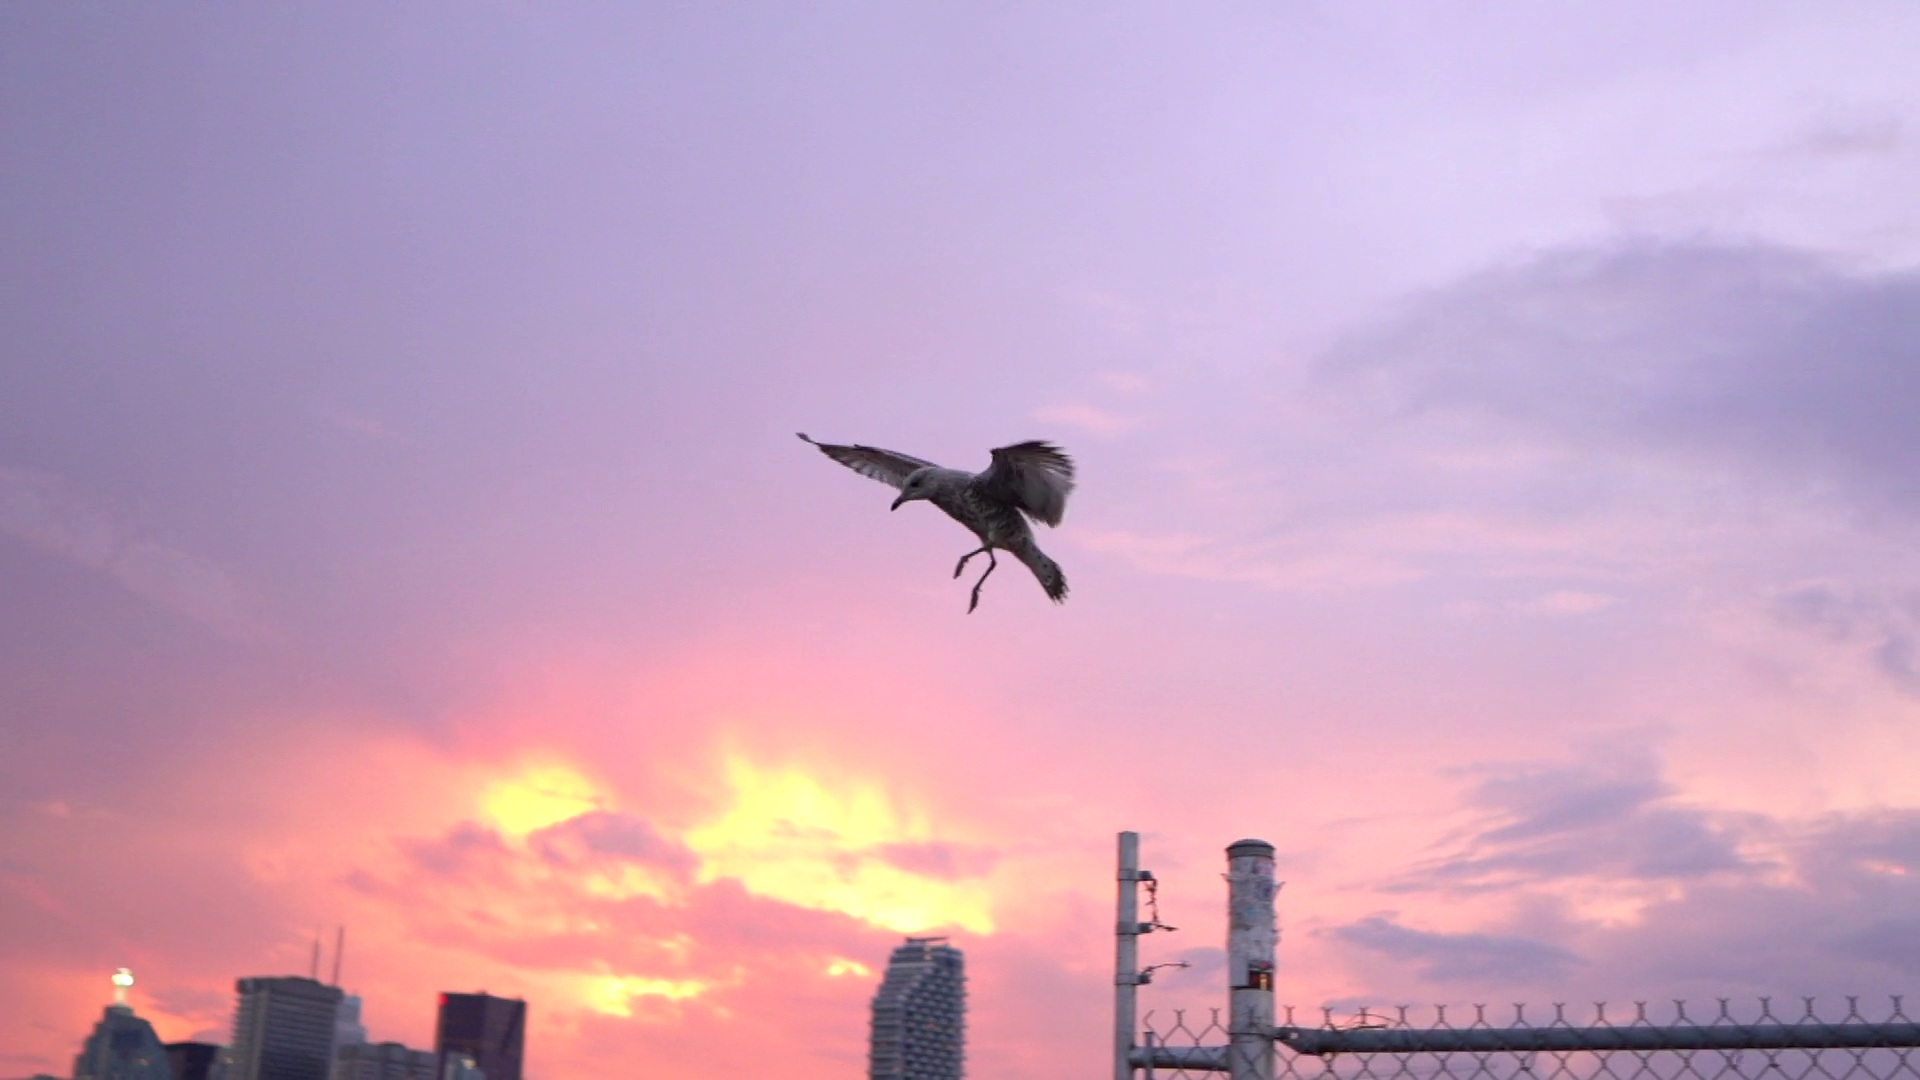bird: (796, 419, 1075, 612)
